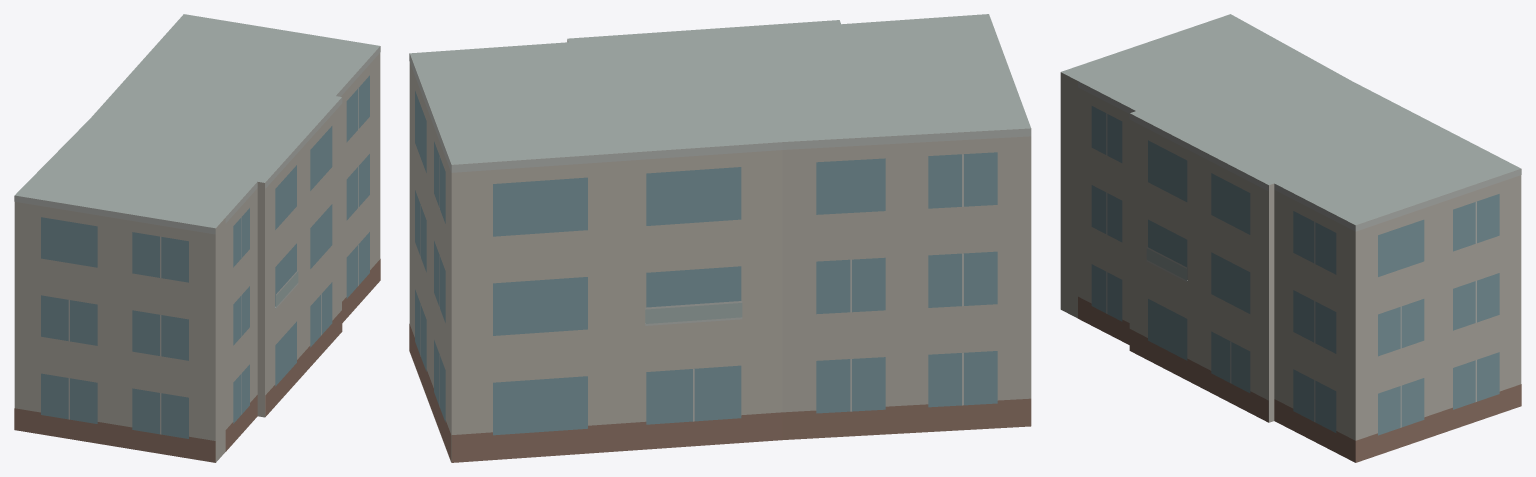
Rendered from survey-upis-32971755.glb.
3 views of the same model, side by side, from view 1: azimuth 30°, elevation 25°; view 2: azimuth 150°, elevation 25°; view 3: azimuth 270°, elevation 25° (orthographic). The views are drawn at different scales.
Visible parts, largest first — view 1: survey-upis-32971755.tmp; view 2: survey-upis-32971755.tmp; view 3: survey-upis-32971755.tmp.
Boxes of the visible parts, box(x1,y1,x2,y2) form: survey-upis-32971755.tmp: box(14, 14, 380, 462); survey-upis-32971755.tmp: box(409, 14, 1031, 462); survey-upis-32971755.tmp: box(1060, 14, 1521, 462).
Bounding box in the file's own units: 17.47 × 9.15 × 16.1.
